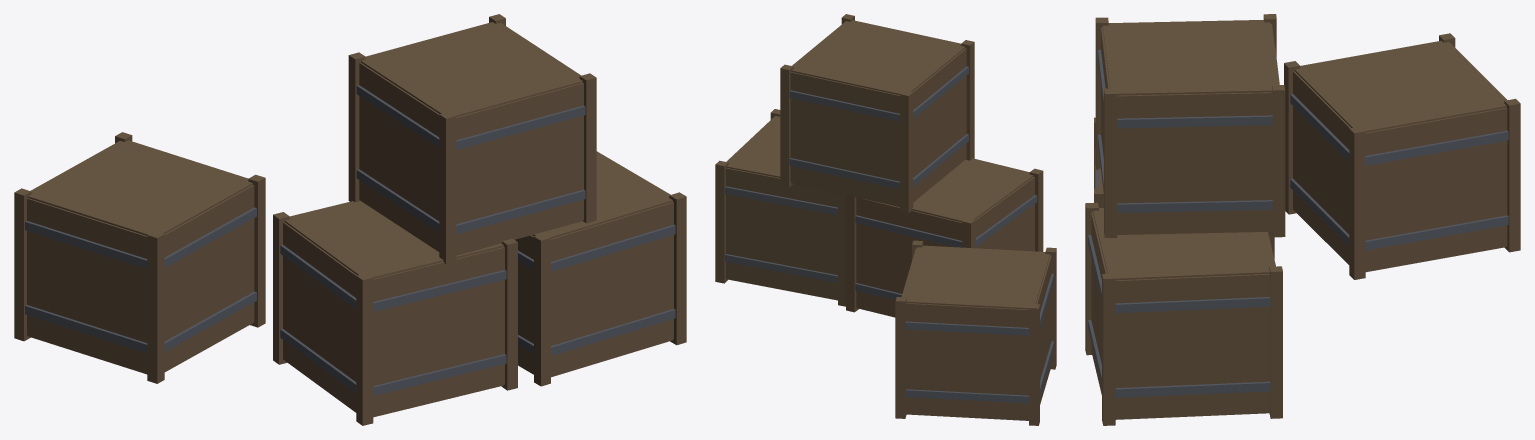
The model's file is crate_stack.glb.
The picture shows the model from 3 angles, left to right: view 1: azimuth 30°, elevation 25°; view 2: azimuth 150°, elevation 25°; view 3: azimuth 270°, elevation 25°; orthographic projection. The views are drawn at different scales.
Visible parts, largest first — view 1: crates_mesh; view 2: crates_mesh; view 3: crates_mesh.
Boxes of the visible parts, bbox=[...] form: crates_mesh: bbox=[14, 14, 686, 425]; crates_mesh: bbox=[715, 14, 1056, 425]; crates_mesh: bbox=[1085, 14, 1520, 425].
Size of what is drawn, in the model's own units: 1.87 by 1.02 by 1.4.
